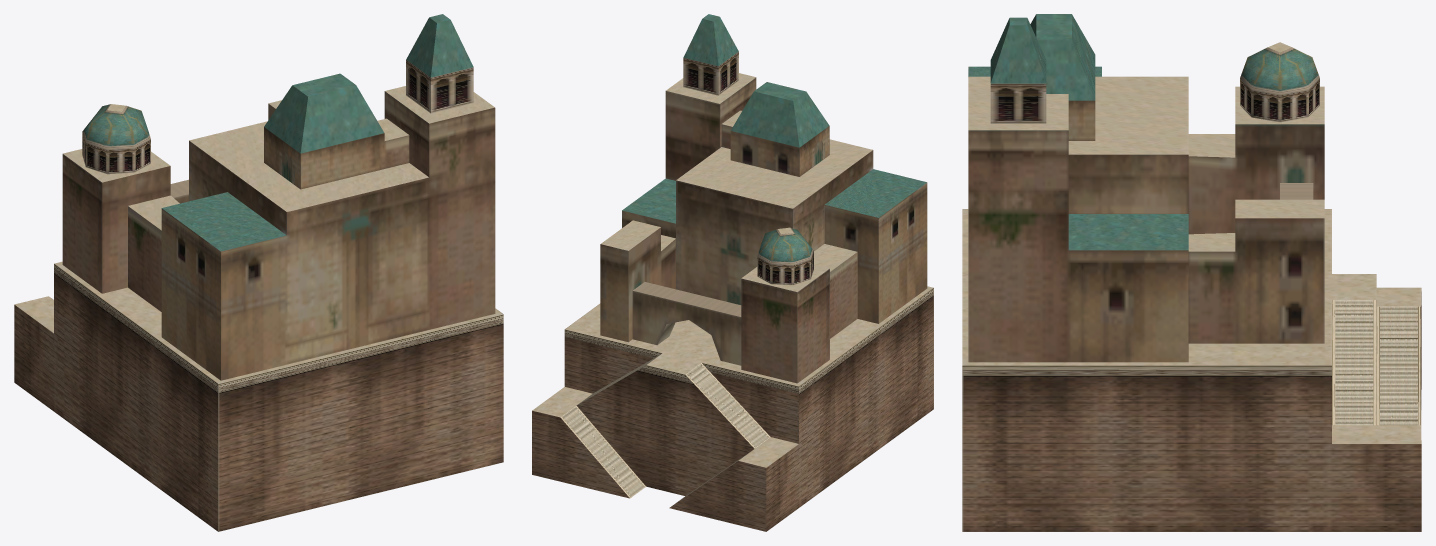
Rendered from ply_nboo_house_lg_s01_fp1_r0_mesh_l3.fbx.
The picture shows the model from 3 angles, left to right: view 1: azimuth 30°, elevation 25°; view 2: azimuth 150°, elevation 25°; view 3: azimuth 270°, elevation 25°; orthographic projection. The views are drawn at different scales.
Parts seen in each view (by area): view 1: mesh_node; view 2: mesh_node; view 3: mesh_node.
Part boxes in pixels (bbox=[...]): mesh_node: bbox=[14, 14, 503, 531]; mesh_node: bbox=[532, 14, 933, 531]; mesh_node: bbox=[962, 14, 1421, 531].
Size of the model in its own units: 33.3 by 48.5 by 41.26.
